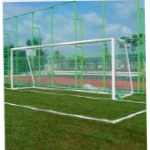goals: (9, 36, 135, 102)
